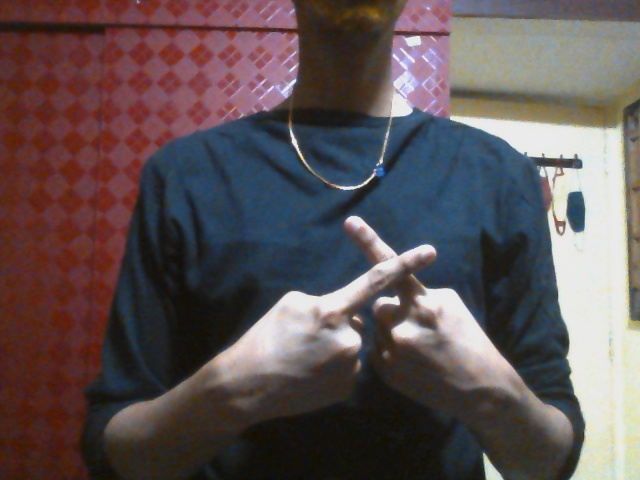X: (262, 216, 483, 417)
